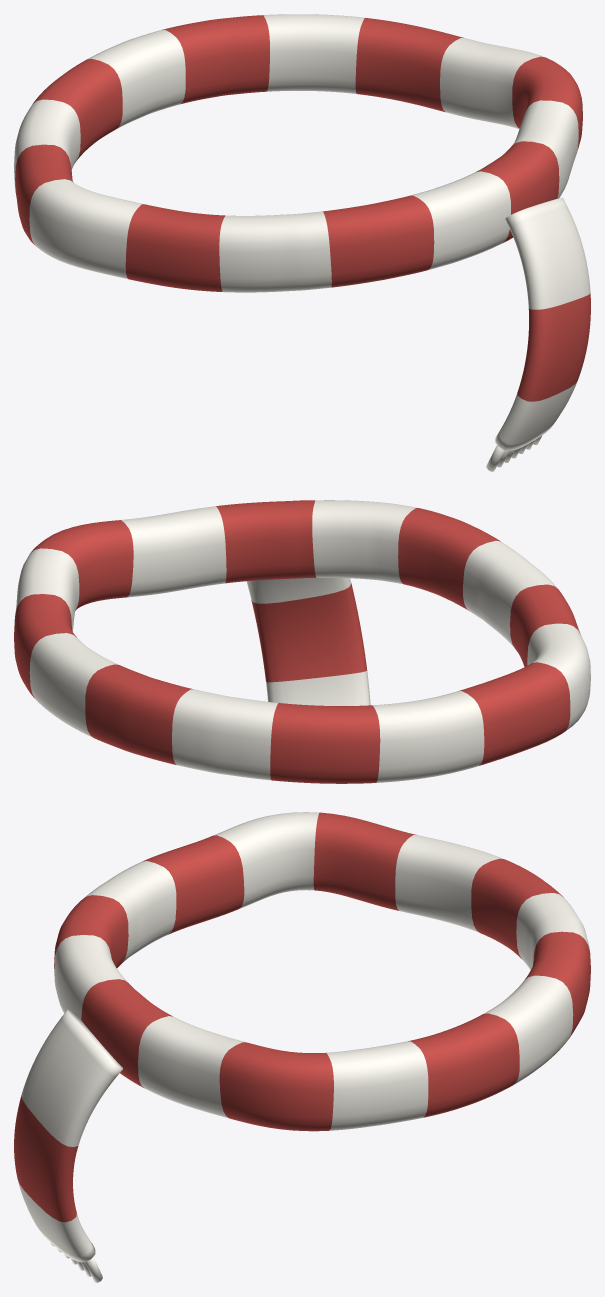
File: scarf.glb
3 views of the same model, one above another, from view 1: azimuth 30°, elevation 25°; view 2: azimuth 150°, elevation 25°; view 3: azimuth 270°, elevation 25° (orthographic).
Parts seen in each view (by area): view 1: scarf; view 2: scarf; view 3: scarf.
Boxes of the visible parts, left/top/right/bottom form: scarf: left=14, top=14, right=590, bottom=471; scarf: left=14, top=500, right=590, bottom=783; scarf: left=14, top=812, right=590, bottom=1282.
Bounding box in the file's own units: 1.5 × 0.7511 × 1.37.
